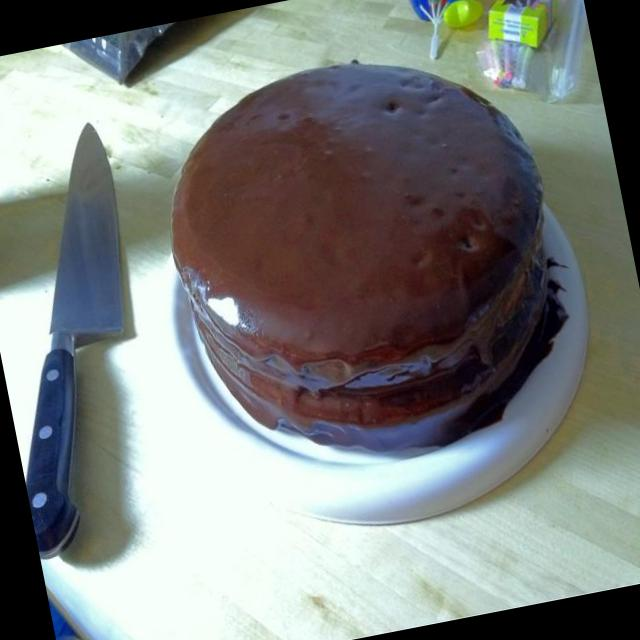Knife: (26, 124, 124, 557)
